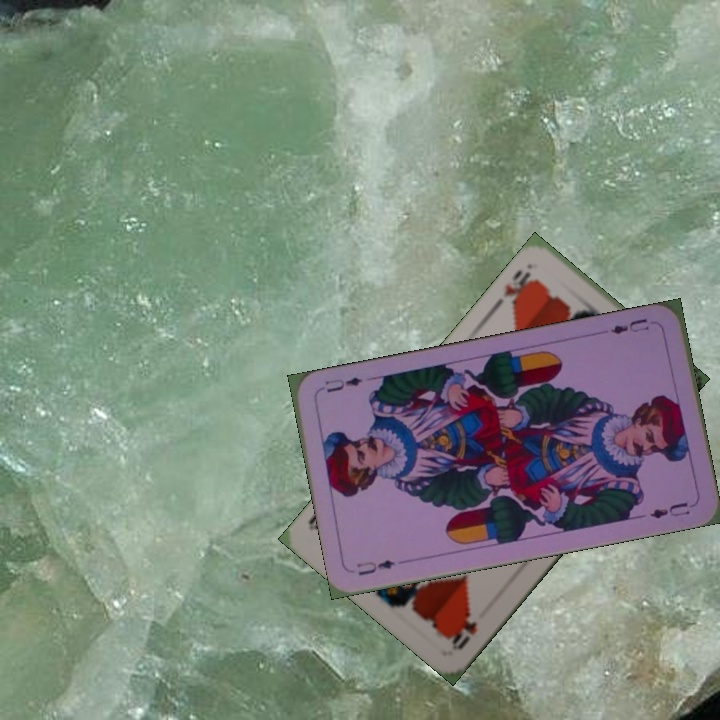EU: (353, 555, 398, 578), (606, 314, 650, 337)
HO: (499, 264, 539, 311), (445, 610, 480, 653)
